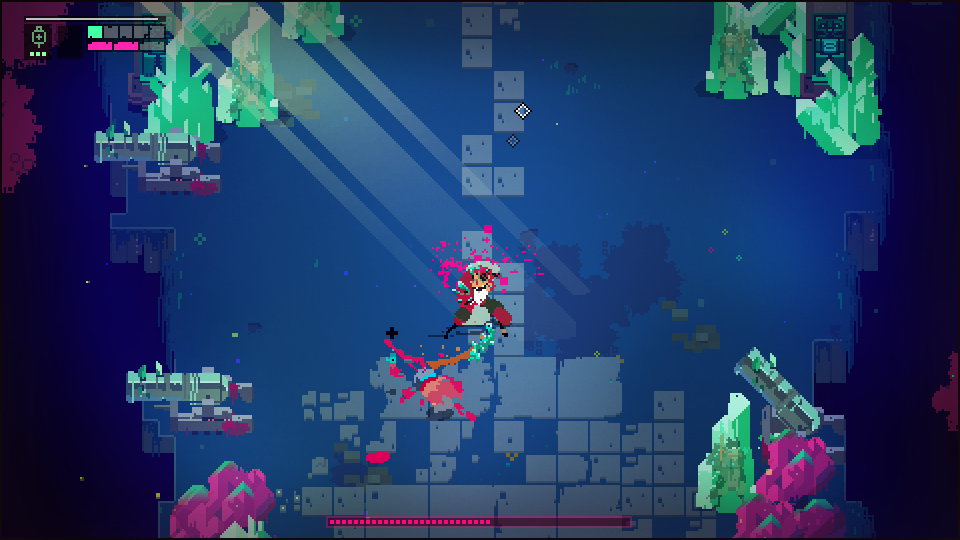hanged_man: (423, 261, 514, 368)
player: (417, 368, 467, 418)
